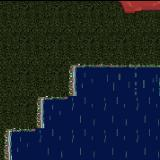Interaction: (82, 51, 160, 77), (30, 84, 54, 118), (59, 51, 82, 84), (0, 118, 18, 160), (18, 118, 54, 138), (54, 84, 82, 101)
Obstacle: (69, 0, 160, 38)
Slow: (12, 131, 160, 160), (44, 100, 160, 130), (77, 68, 160, 100)
